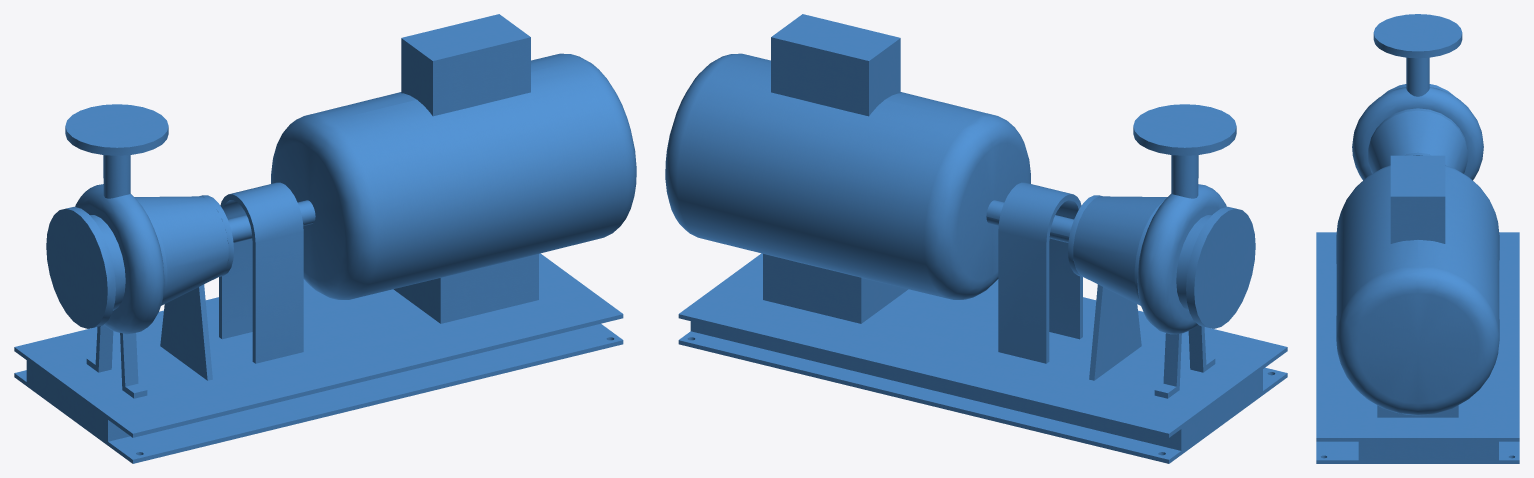
The model's file is sheliubeng.obj.
3 renders of one model, left to right at view 1: azimuth 30°, elevation 25°; view 2: azimuth 150°, elevation 25°; view 3: azimuth 270°, elevation 25°, orthographic. The views are drawn at different scales.
Visible parts, largest first — view 1: _旋转_[4144976], _连接的实心几何图形_[4145071], _连接的实心几何图形_[4144914], _拉伸_[4145101], _连接的实心几何图形_[4145045], _连接的实心几何图形_[4144937], _拉伸_[4144815], _拉伸_[4144917], _拉伸_[4145129], _拉伸_[4144830], _拉伸_[4144877]; view 2: _旋转_[4144976], _连接的实心几何图形_[4145071], _连接的实心几何图形_[4144914], _拉伸_[4145101], _连接的实心几何图形_[4145045], _连接的实心几何图形_[4144937], _拉伸_[4144815], _拉伸_[4144917], _拉伸_[4145129], _拉伸_[4144830], _拉伸_[4144877]; view 3: _旋转_[4144976], _连接的实心几何图形_[4145071], _连接的实心几何图形_[4144914], _连接的实心几何图形_[4144937], _连接的实心几何图形_[4145045], _拉伸_[4144917], _拉伸_[4144846].
Part boxes in pixels (left/top/right/bottom): _旋转_[4144976]: left=271, top=53, right=636, bottom=299; _连接的实心几何图形_[4145071]: left=14, top=253, right=623, bottom=463; _连接的实心几何图形_[4144914]: left=393, top=14, right=538, bottom=323; _拉伸_[4145101]: left=219, top=182, right=303, bottom=363; _连接的实心几何图形_[4145045]: left=134, top=196, right=228, bottom=380; _连接的实心几何图形_[4144937]: left=75, top=155, right=164, bottom=334; _拉伸_[4144815]: left=46, top=206, right=115, bottom=328; _拉伸_[4144917]: left=65, top=104, right=168, bottom=155; _拉伸_[4145129]: left=86, top=324, right=147, bottom=398; _拉伸_[4144830]: left=90, top=215, right=125, bottom=310; _拉伸_[4144877]: left=228, top=200, right=315, bottom=242; _旋转_[4144976]: left=665, top=53, right=1030, bottom=299; _连接的实心几何图形_[4145071]: left=678, top=253, right=1287, bottom=463; _连接的实心几何图形_[4144914]: left=763, top=14, right=908, bottom=323; _拉伸_[4145101]: left=998, top=182, right=1082, bottom=363; _连接的实心几何图形_[4145045]: left=1073, top=196, right=1167, bottom=380; _连接的实心几何图形_[4144937]: left=1137, top=155, right=1226, bottom=334; _拉伸_[4144815]: left=1186, top=206, right=1255, bottom=328; _拉伸_[4144917]: left=1133, top=104, right=1236, bottom=155; _拉伸_[4145129]: left=1154, top=325, right=1215, bottom=398; _拉伸_[4144830]: left=1176, top=215, right=1211, bottom=310; _拉伸_[4144877]: left=986, top=200, right=1073, bottom=242; _旋转_[4144976]: left=1336, top=165, right=1499, bottom=415; _连接的实心几何图形_[4145071]: left=1316, top=232, right=1519, bottom=463; _连接的实心几何图形_[4144914]: left=1377, top=155, right=1458, bottom=417; _连接的实心几何图形_[4144937]: left=1352, top=57, right=1483, bottom=180; _连接的实心几何图形_[4145045]: left=1368, top=110, right=1467, bottom=173; _拉伸_[4144917]: left=1373, top=14, right=1462, bottom=58; _拉伸_[4144846]: left=1368, top=108, right=1467, bottom=149.
Bounding box in the file's own units: 614 × 321 × 240.
Materials: 1 (1 with a texture image).
